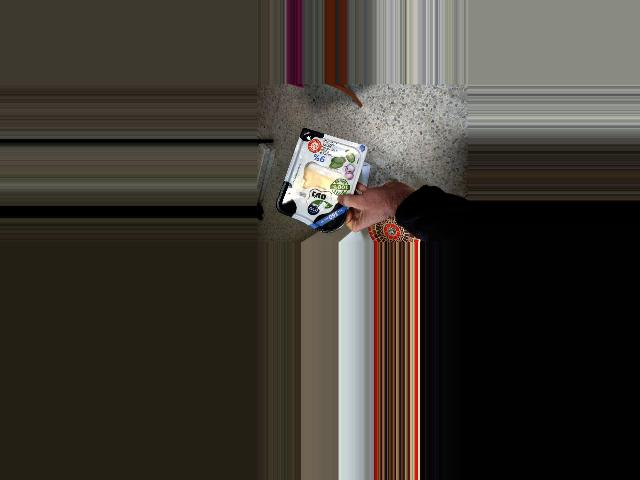cheese: (284, 135, 352, 225)
